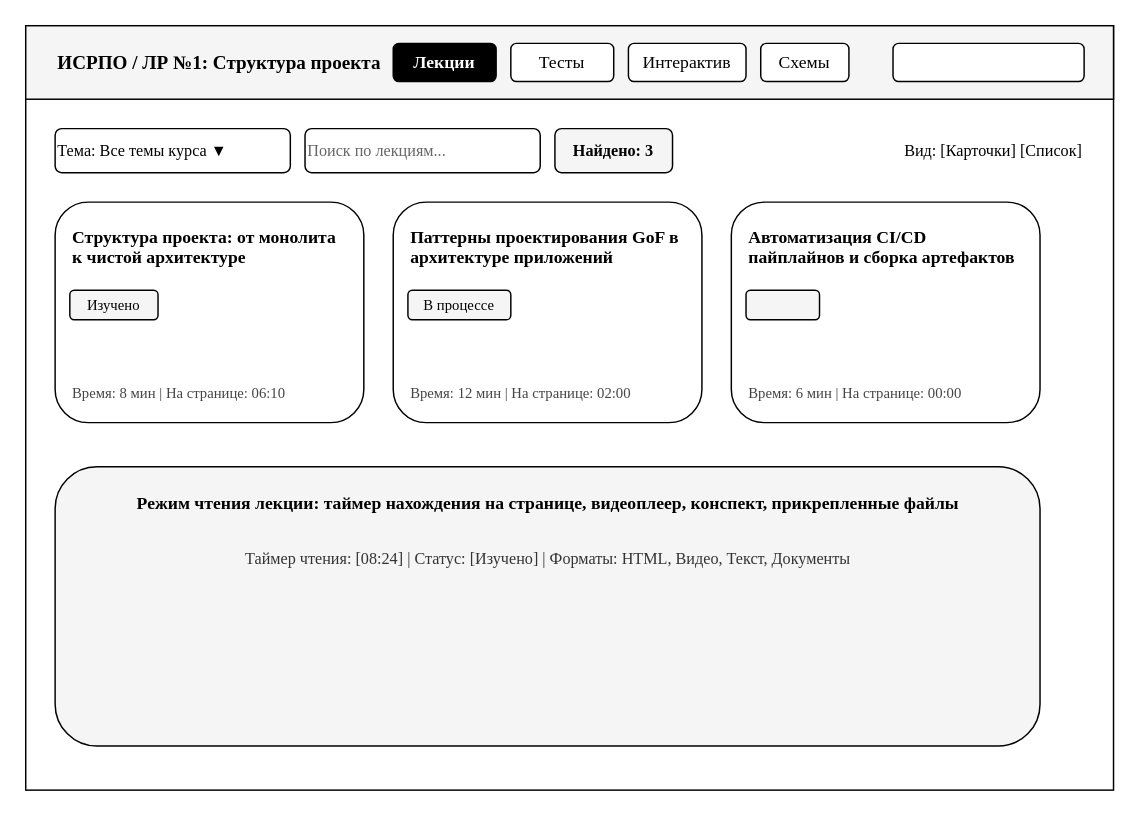
Image size: 1139x816. Some labels were removed from this diagram. Each missing label, with the centre of its shape:
"Новая" belongs at (782,304).
"Радин Е. Д. [Студент]" belongs at (988,62).
